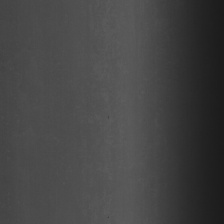inclusion: (105, 109, 112, 124)
